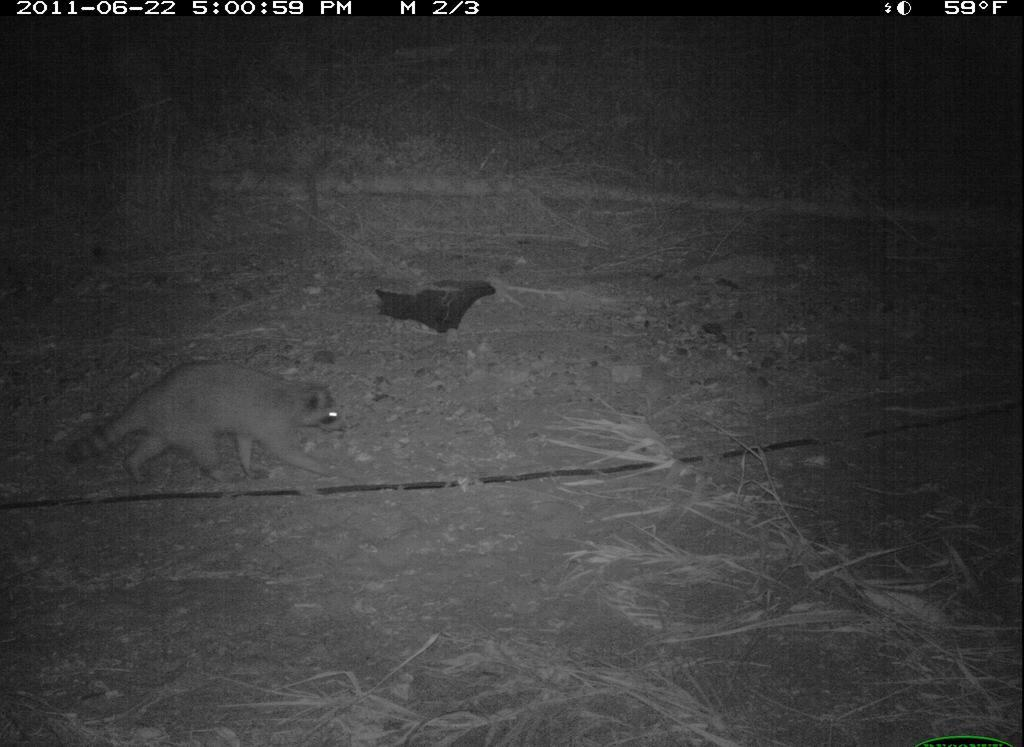raccoon: (52, 341, 368, 518)
